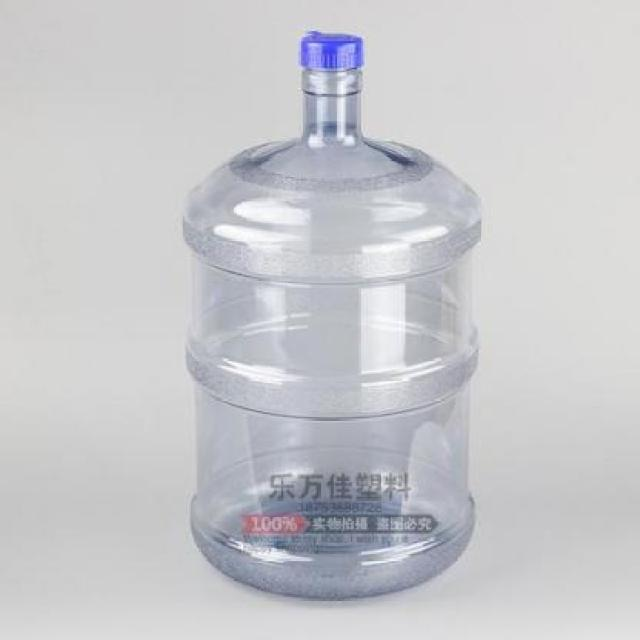coolerbottle: (178, 23, 488, 607)
